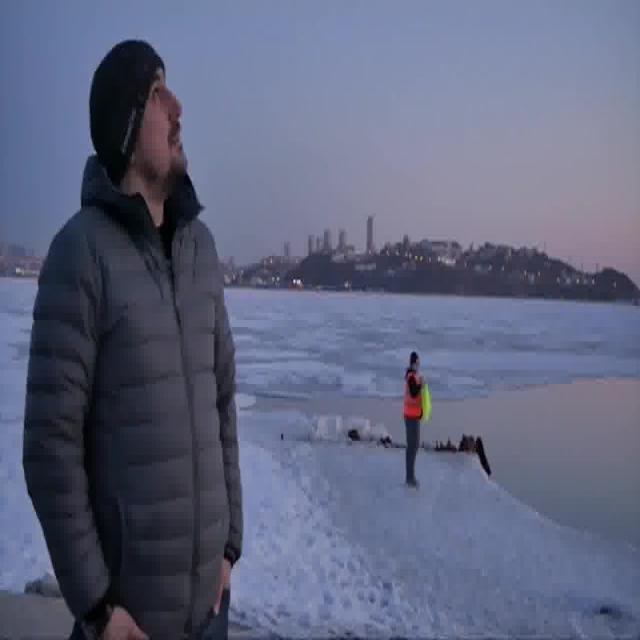safety_vest: (404, 371, 424, 421), (422, 381, 432, 421)
